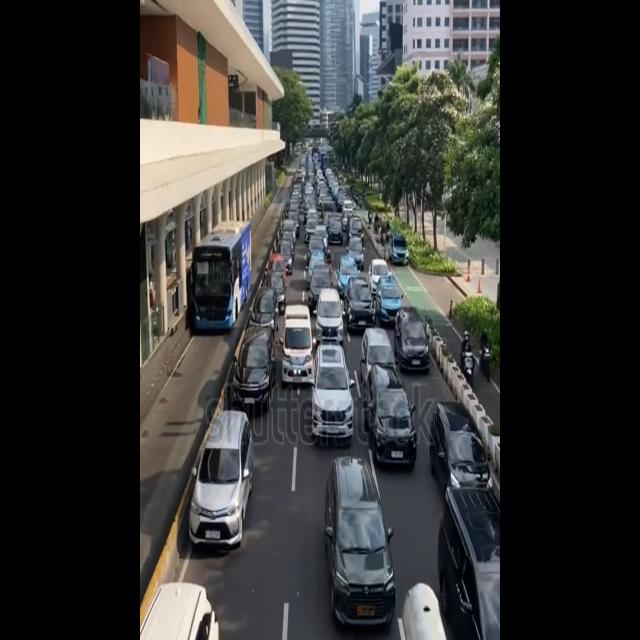Ambulance: (278, 289, 320, 384)
